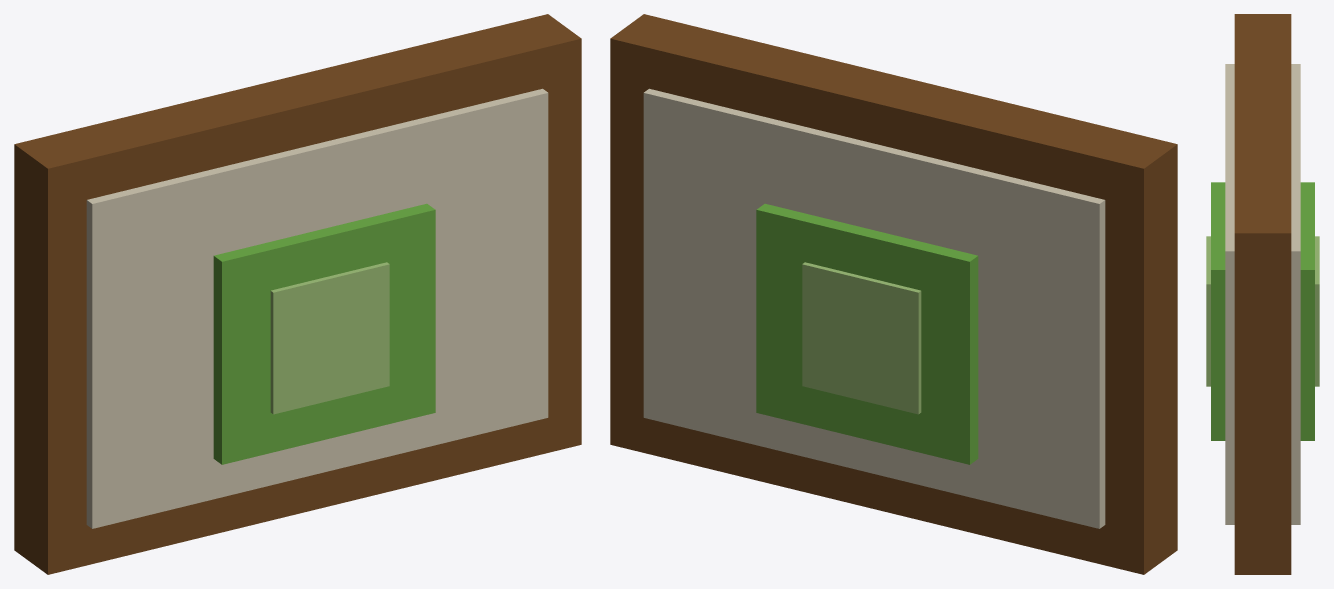
Rendered from nt-sign-cabbage.glb.
3 renders of one model, left to right at view 1: azimuth 30°, elevation 25°; view 2: azimuth 150°, elevation 25°; view 3: azimuth 270°, elevation 25°, orthographic. The views are drawn at different scales.
Visible parts, largest first — view 1: box-prop; view 2: box-prop; view 3: box-prop.
Boxes of the visible parts, x1,y1,x2,y2 form: box-prop: (14, 14, 581, 574); box-prop: (610, 14, 1177, 574); box-prop: (1206, 14, 1319, 574).
Size of the model in its own units: 1.87 by 1.36 by 0.408.
